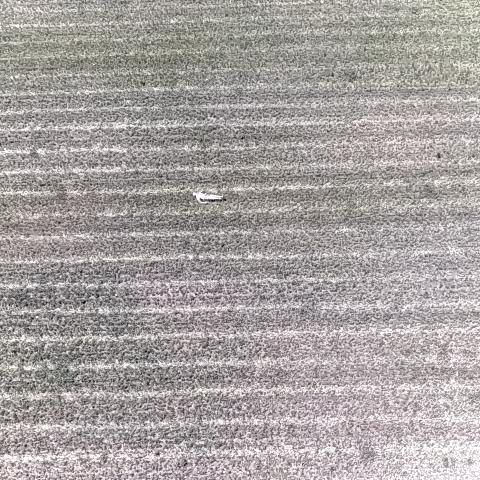person: (191, 189, 227, 204)
